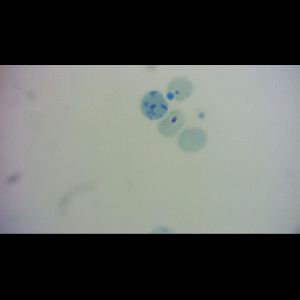aggregate reticulocyte: (138, 90, 170, 122)
erythrocyte: (156, 106, 188, 137), (177, 125, 209, 154), (164, 76, 195, 103)
